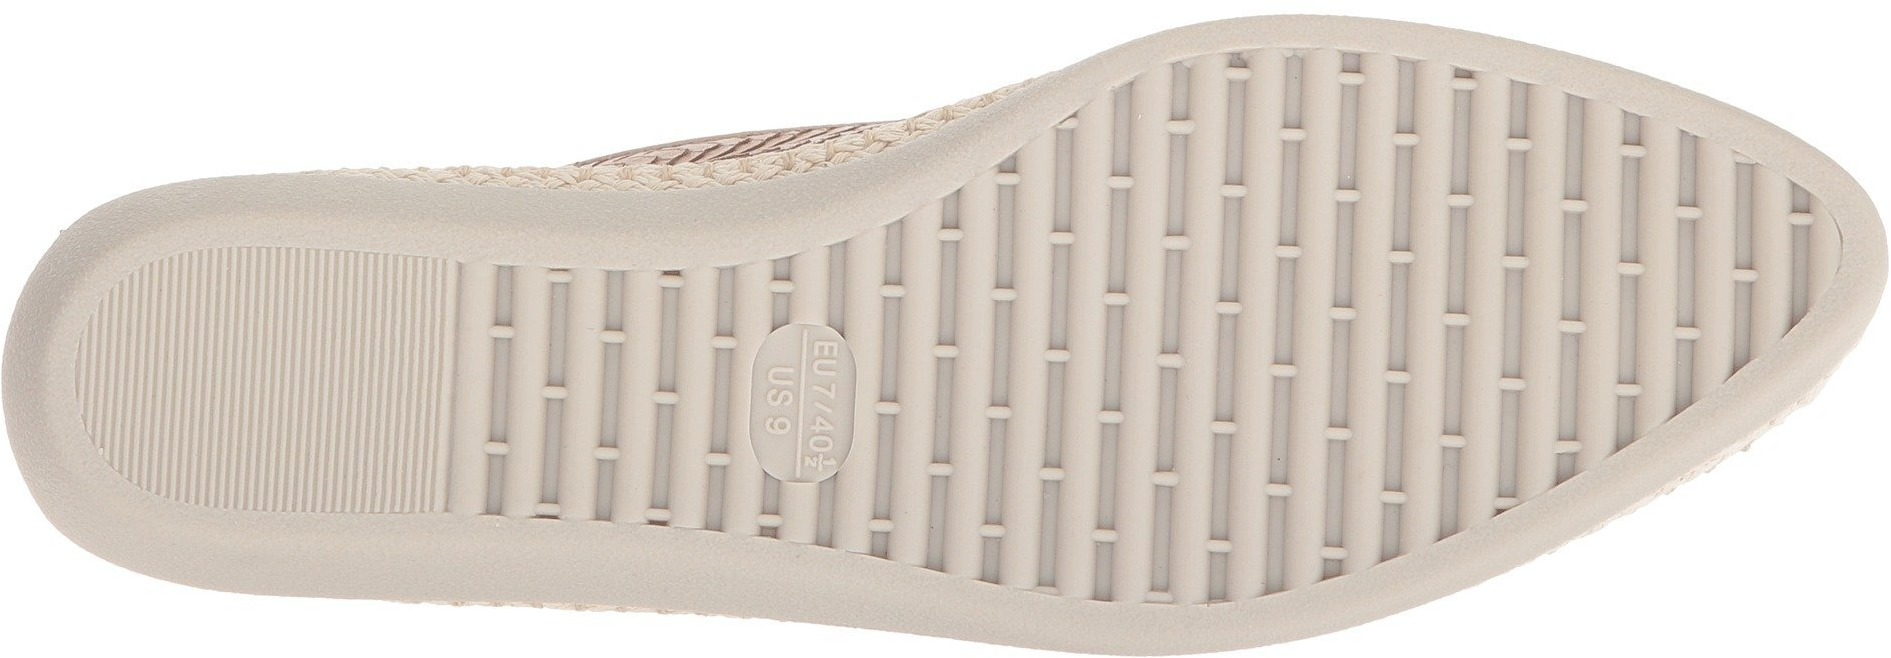circle: (747, 317, 859, 486)
line: (944, 178, 1384, 564), (1377, 118, 1685, 424), (185, 262, 443, 503), (464, 277, 710, 519), (747, 317, 859, 486), (1245, 48, 1387, 178), (84, 329, 189, 431)
quad: (944, 178, 1384, 564), (1377, 118, 1685, 424), (464, 277, 710, 519), (716, 311, 888, 493), (1245, 48, 1387, 178)
text: (747, 317, 859, 486), (802, 334, 850, 382), (755, 362, 802, 410), (802, 415, 847, 457)
